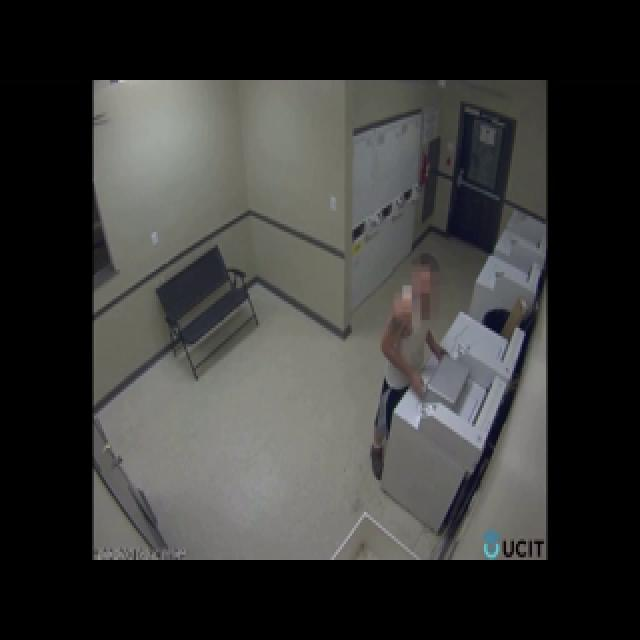arrest: (327, 164, 546, 571)
